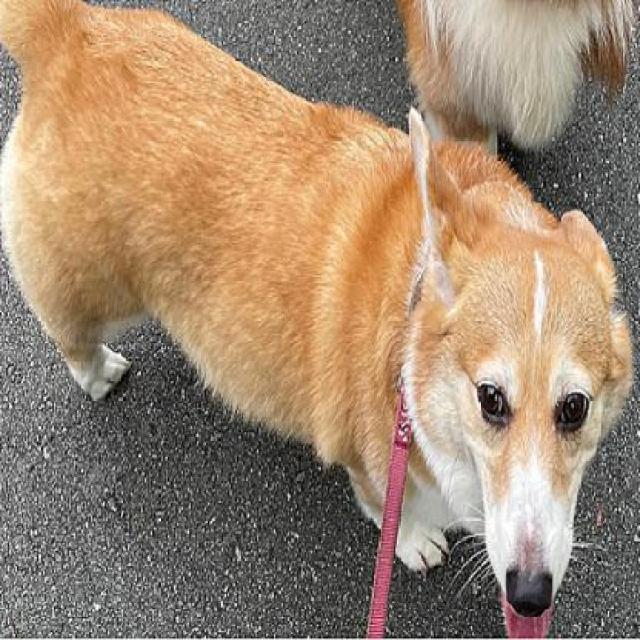Dog: (1, 1, 637, 638)
